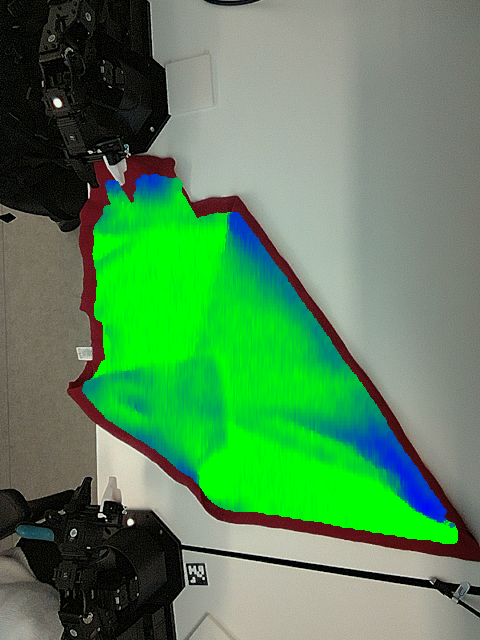V: (169, 341, 230, 386)
